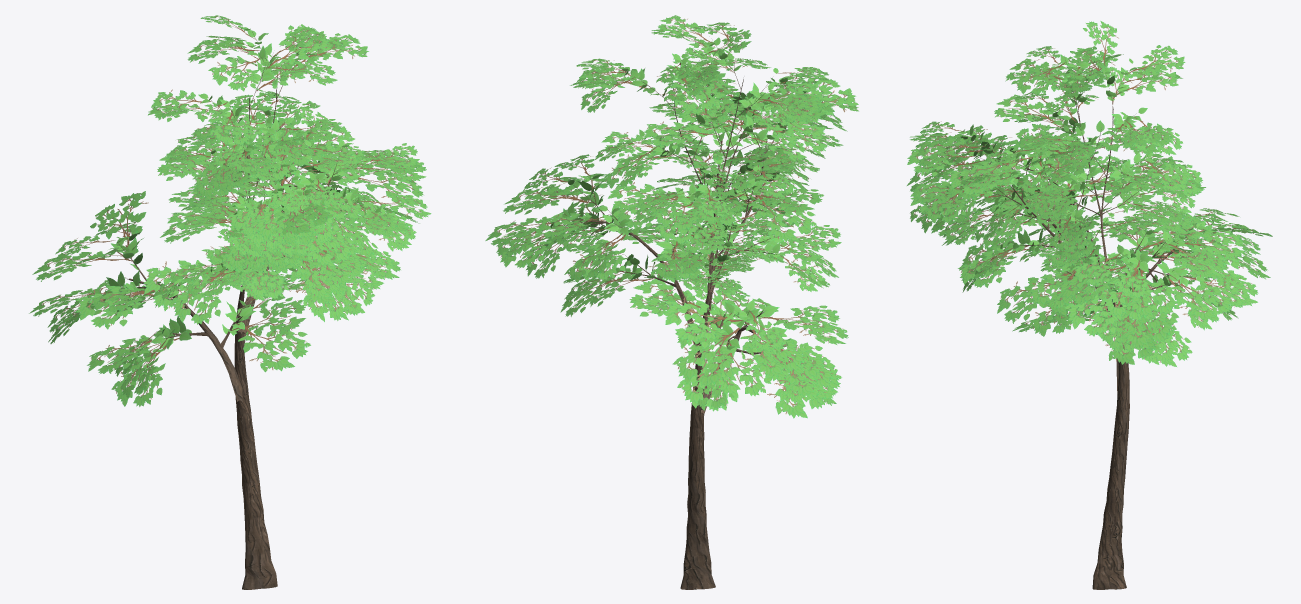
File: Stylized_Broadleaf_001.fbx
The picture shows the model from 3 angles, left to right: view 1: azimuth 30°, elevation 25°; view 2: azimuth 150°, elevation 25°; view 3: azimuth 270°, elevation 25°; orthographic projection. The views are drawn at different scales.
Visible parts, largest first — view 1: Stylized_Broadleaf_001; view 2: Stylized_Broadleaf_001; view 3: Stylized_Broadleaf_001.
Part boxes in pixels (x1=…): Stylized_Broadleaf_001: x1=29, y1=15, x2=431, y2=589; Stylized_Broadleaf_001: x1=485, y1=15, x2=858, y2=589; Stylized_Broadleaf_001: x1=907, y1=21, x2=1272, y2=589.
Size of the model in its own units: 15.66 by 22.65 by 14.85.
Materials: 4 (3 with a texture image).
